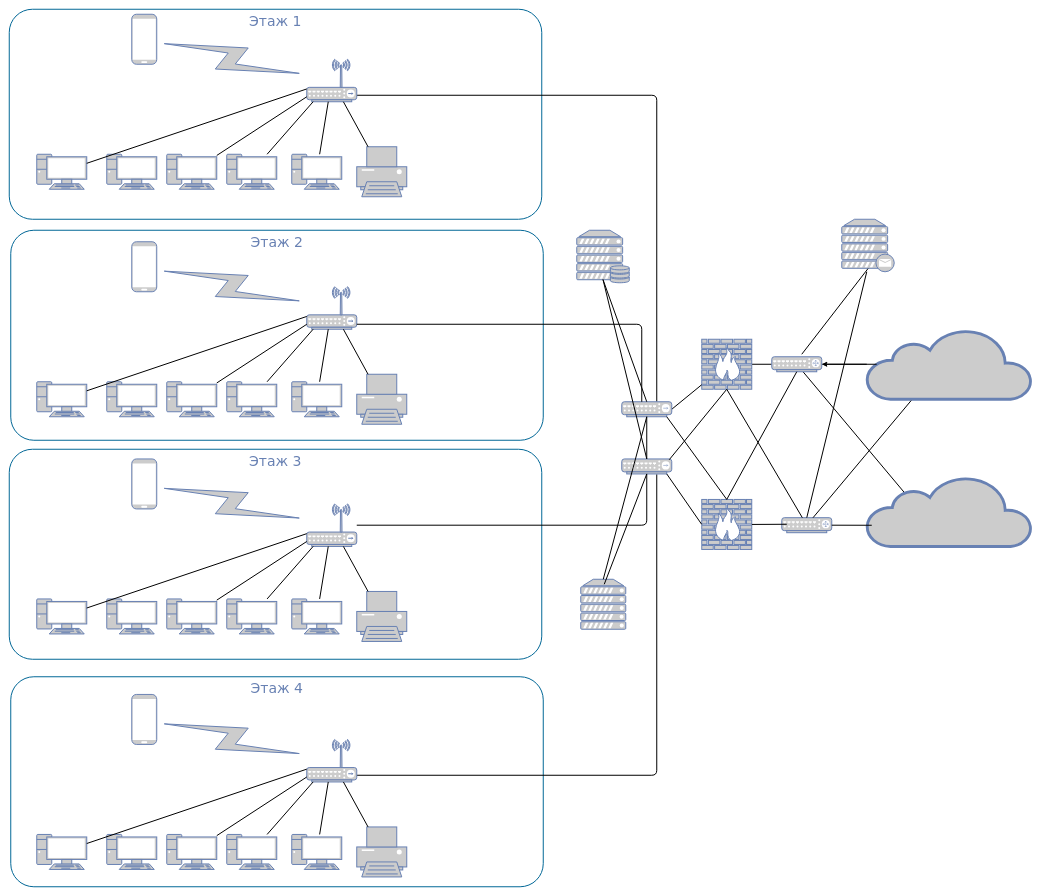
The diagram is 1041 pixels wide and 896 high, and some of its shapes have lost their labels. The box of each missing label's shape, as (x1, y1, x2, y2) in pixels:
ISP1: (866, 328, 1032, 400)
ISP2: (866, 476, 1032, 547)
